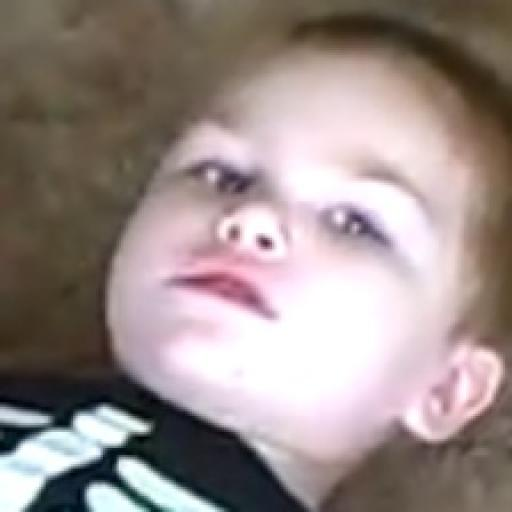Autism: (89, 46, 512, 478)
